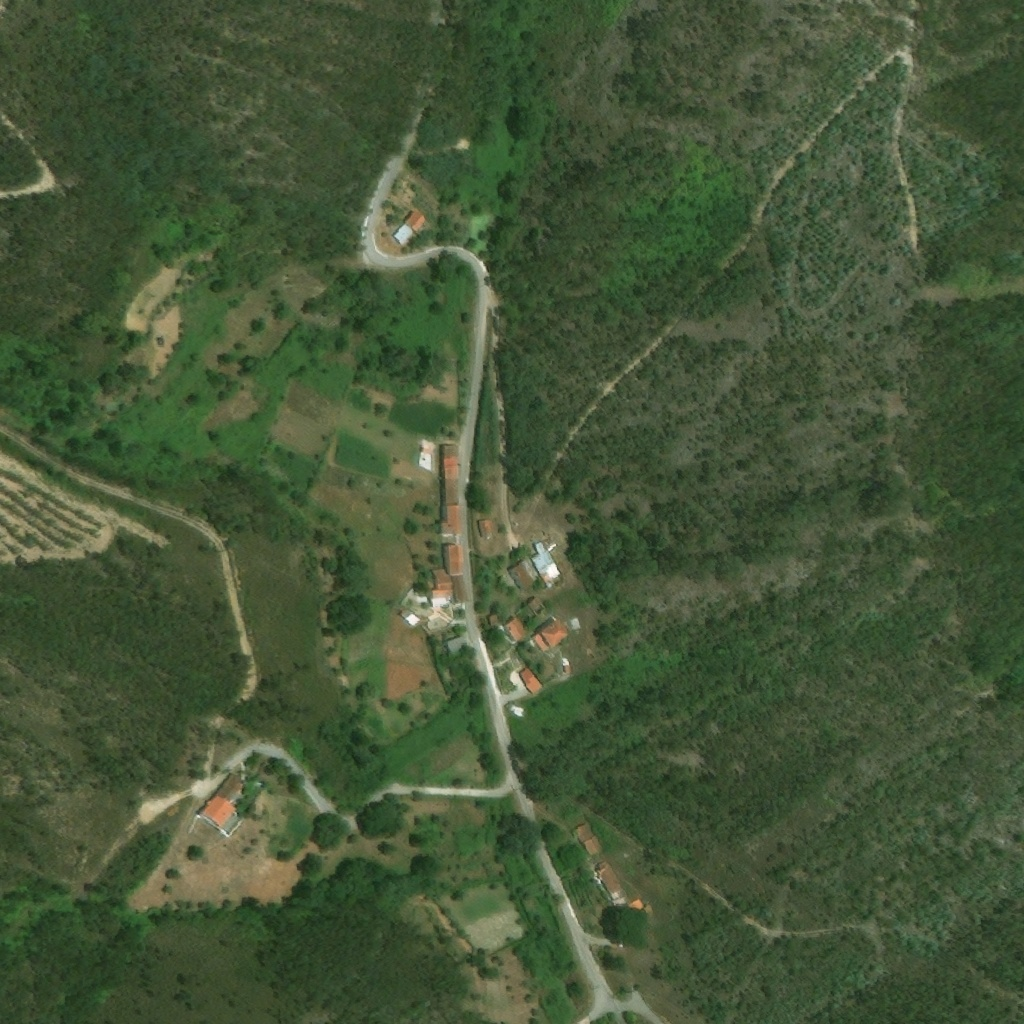0 no-damage: (594, 860, 646, 922), (197, 773, 249, 828), (530, 541, 562, 588), (531, 618, 570, 653), (392, 209, 427, 245), (508, 558, 541, 592), (441, 445, 460, 504), (572, 823, 604, 857), (430, 568, 453, 608), (518, 666, 544, 695), (440, 504, 461, 536), (505, 616, 527, 642), (447, 545, 465, 576), (449, 574, 468, 603), (446, 635, 469, 655), (478, 519, 493, 538), (404, 612, 419, 628), (491, 614, 497, 626)
